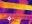Hotspot: (0, 1, 31, 10), (10, 18, 21, 23), (0, 14, 2, 19)
